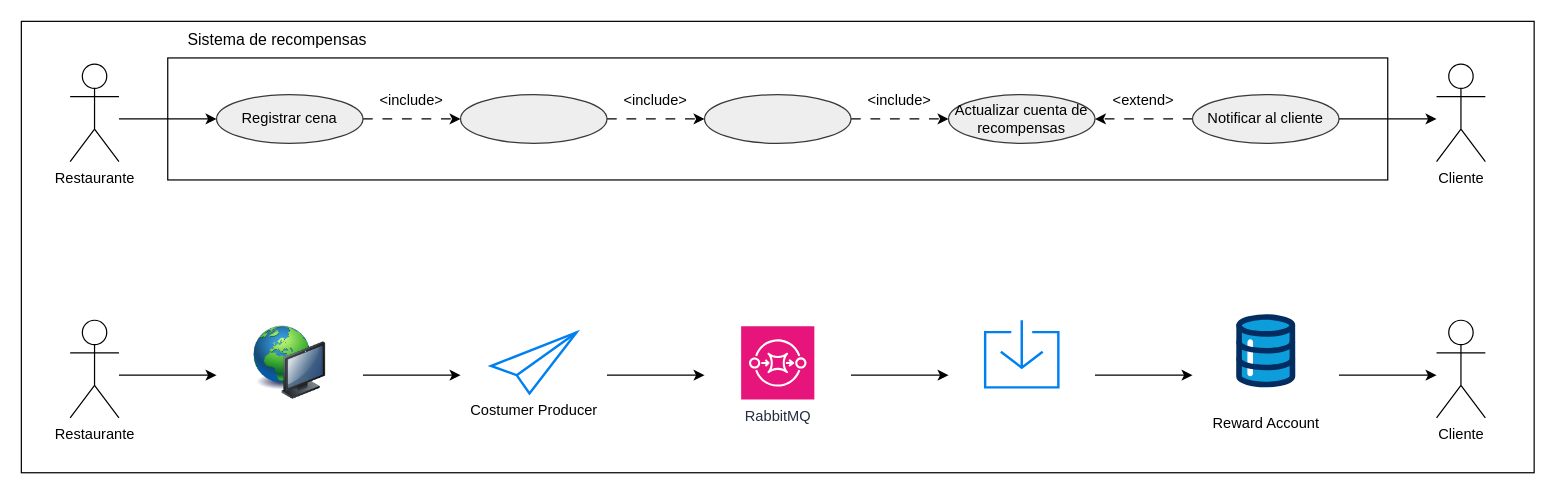
Image size: 1556x494. Some labels were removed from this diagram. The shapes that lost their labels are listed below. From the top down, each one's centre as x and y in pixels, then its label:
At point (533, 118): "Publicar en la cola RabbitMQ".
At point (777, 118): "Calcular recompensa".
At point (289, 362): "Api R est".
At point (1021, 353): "Reward Consumer".
